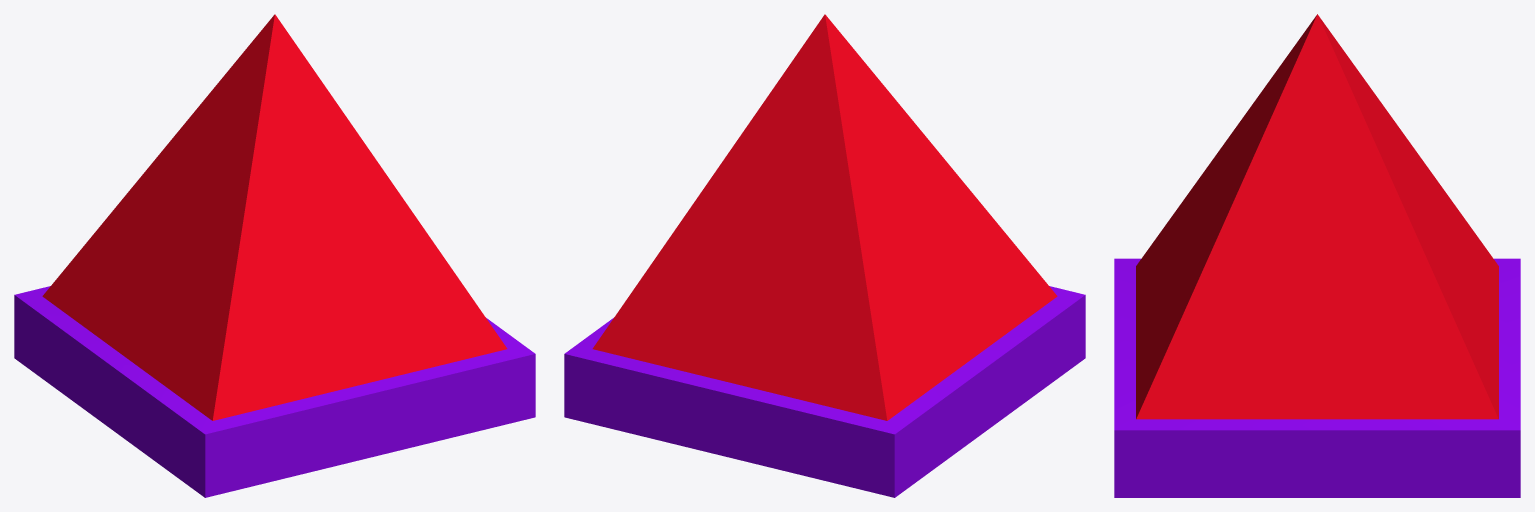
File: Spike.fbx
3 views of the same model, side by side, from view 1: azimuth 30°, elevation 25°; view 2: azimuth 150°, elevation 25°; view 3: azimuth 270°, elevation 25° (orthographic). The views are drawn at different scales.
Visible parts, largest first — view 1: Spike; view 2: Spike; view 3: Spike.
Part boxes in pixels (left/top/right/bottom): Spike: left=14, top=14, right=535, bottom=497; Spike: left=564, top=14, right=1085, bottom=497; Spike: left=1114, top=14, right=1520, bottom=497.
Size of the model in its own units: 112 by 122 by 112.
